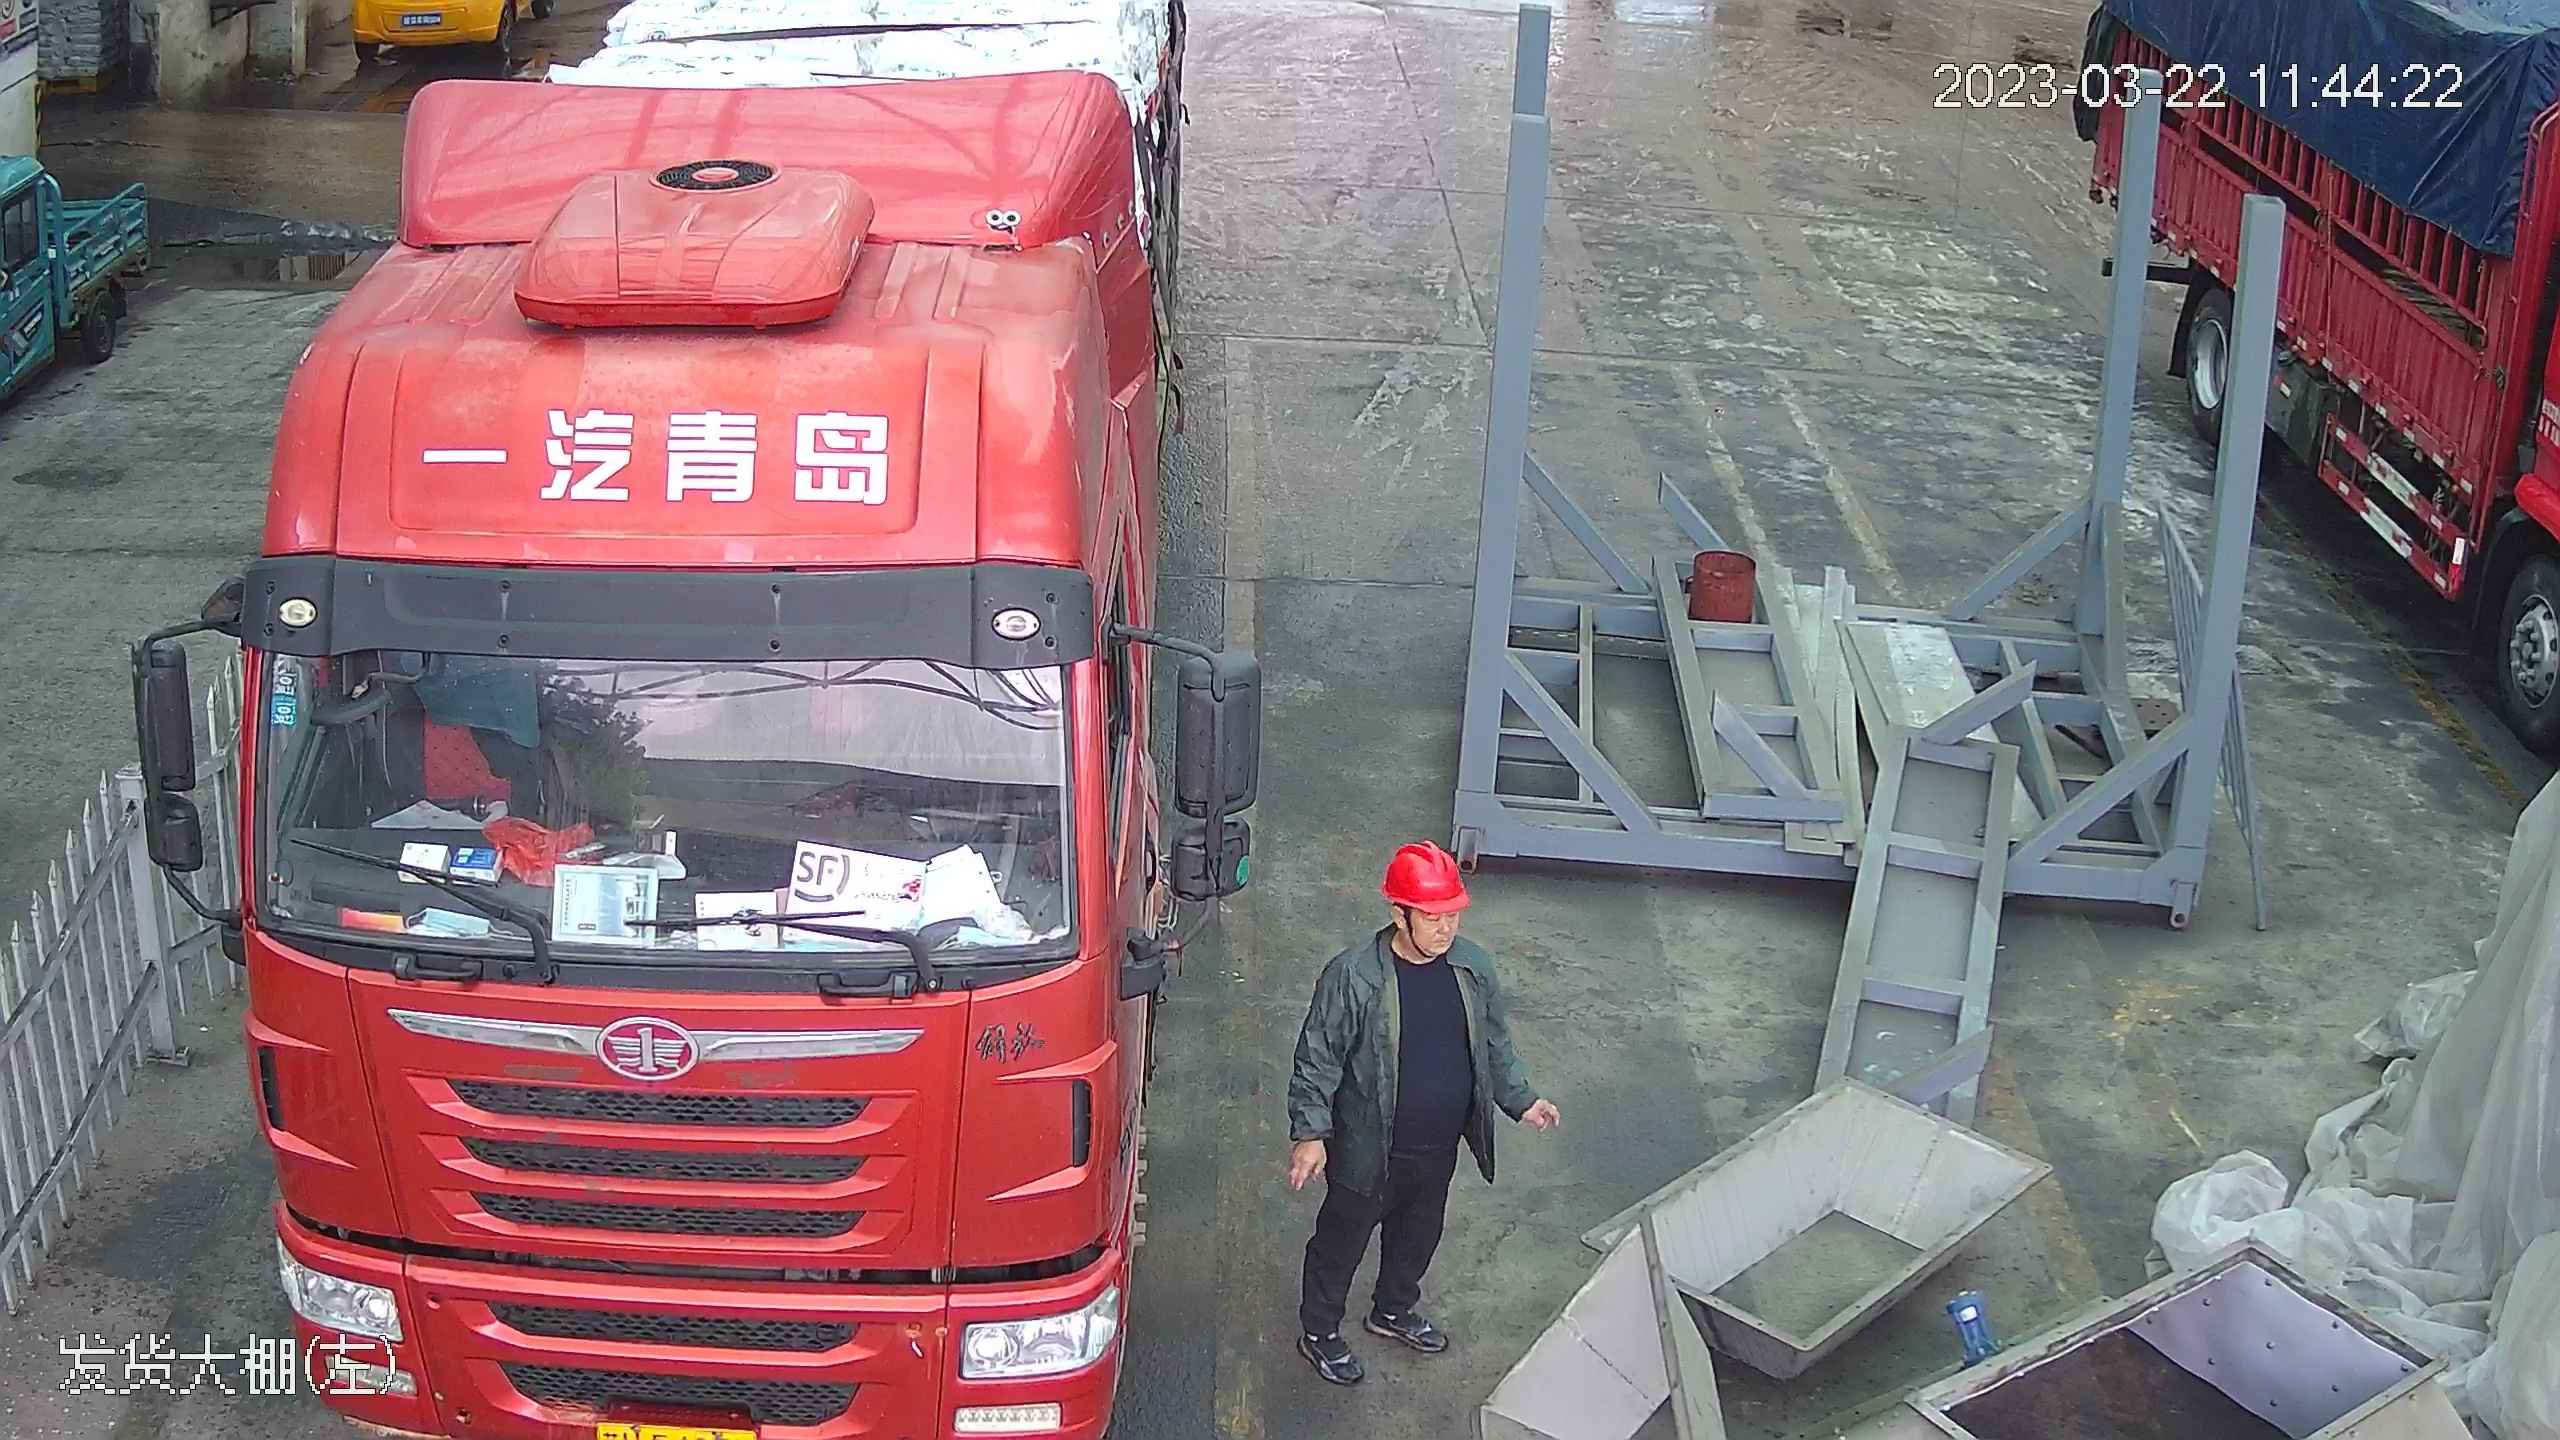head: (1286, 837, 1516, 1391), (1316, 837, 1491, 1031)
helmet: (1377, 840, 1472, 911)
people: (1282, 839, 1518, 1392)
truck: (173, 9, 1264, 1440), (2077, 0, 2558, 793)
